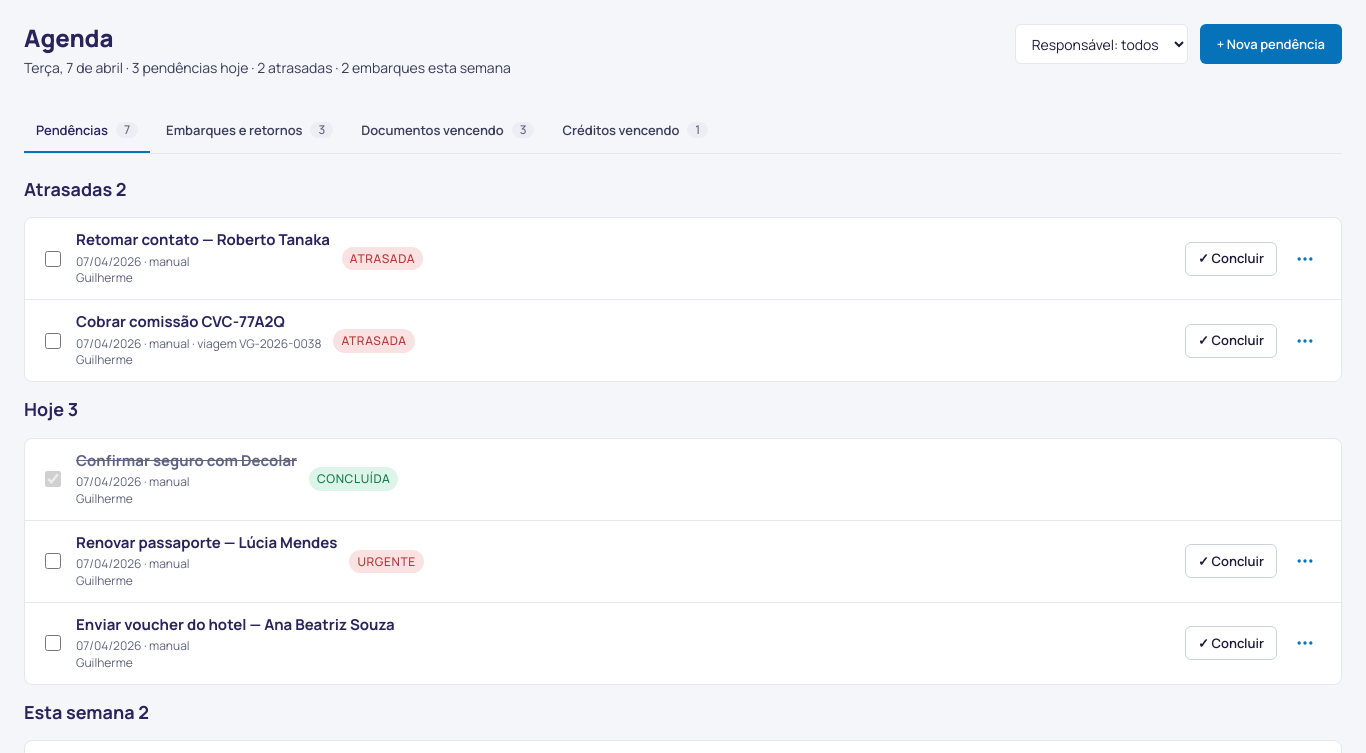
it: troca para 'Embarques e retornos' mostra Ana Beatriz Souza e Retornos
expect the heading "Atrasadas 2" is shown: met, box [24, 177, 126, 201]
Click the tab "Embarques e retornos 3". click: (250, 131)
box: [154, 110, 345, 153]
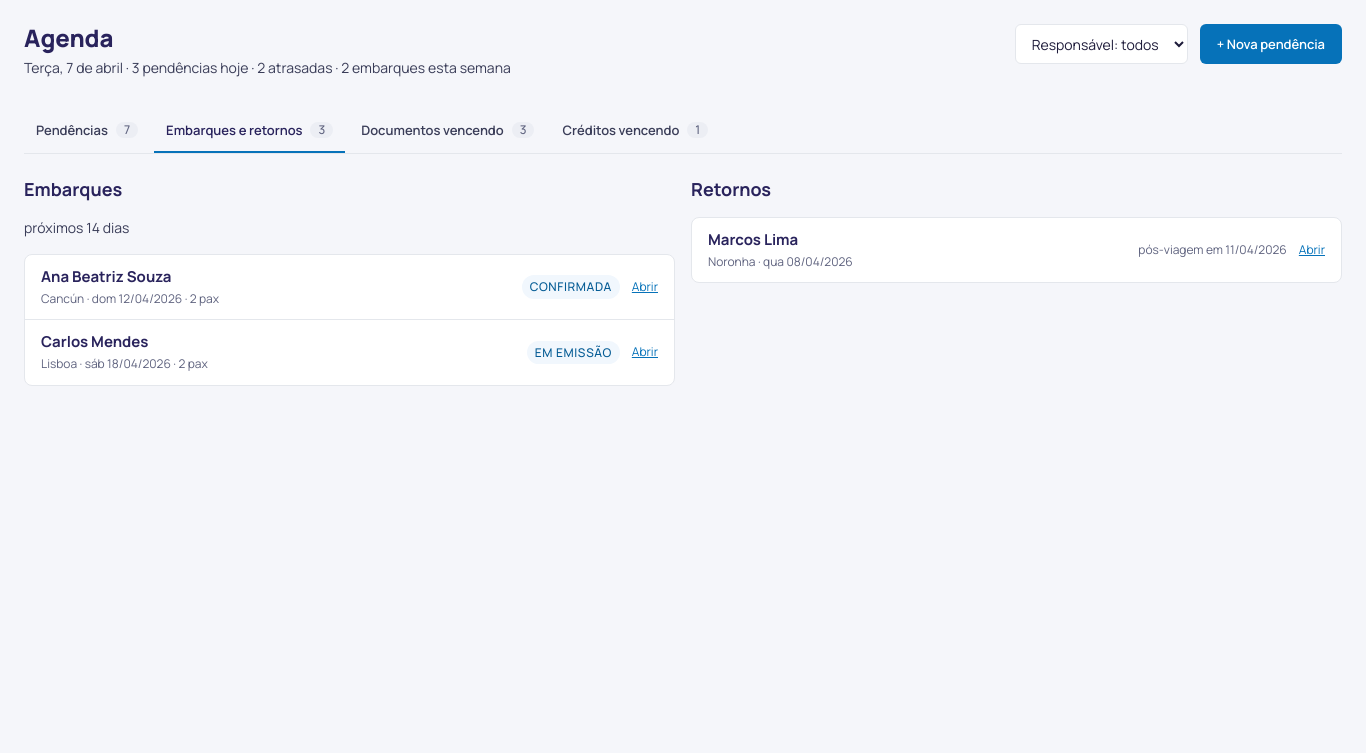
expect the text "Ana Beatriz Souza" is shown: met, box [41, 266, 172, 287]
expect the heading "Retornos" is shown: met, box [691, 177, 771, 201]
